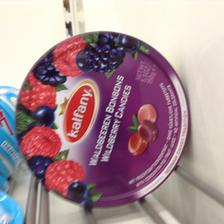Suessigkeit: (14, 31, 187, 201)
